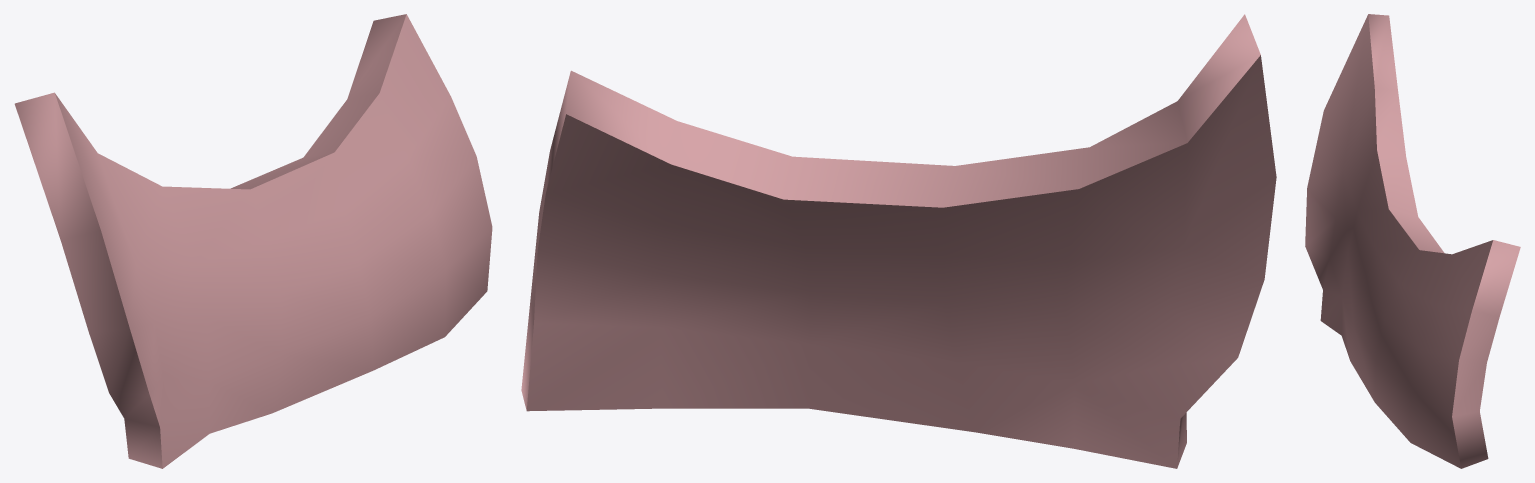
The picture shows the model from 3 angles, left to right: view 1: azimuth 30°, elevation 25°; view 2: azimuth 150°, elevation 25°; view 3: azimuth 270°, elevation 25°; orthographic projection. The views are drawn at different scales.
Visible parts, largest first — view 1: ZA_ea5982d96305ad15; view 2: ZA_ea5982d96305ad15; view 3: ZA_ea5982d96305ad15.
Part boxes in pixels (<box>): ZA_ea5982d96305ad15: <box>14,14,492,468</box>; ZA_ea5982d96305ad15: <box>521,14,1276,468</box>; ZA_ea5982d96305ad15: <box>1305,14,1520,468</box>.
Size of the model in its own units: 0.0407 by 0.0279 by 0.0194.
